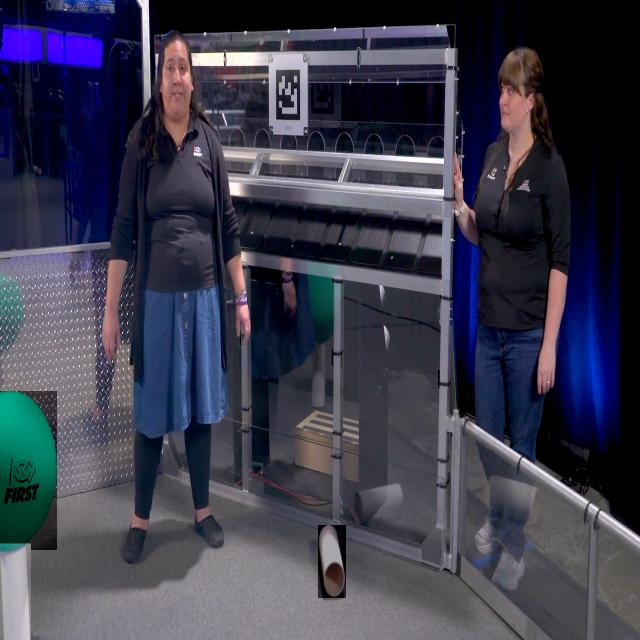Algae: (0, 392, 57, 552)
Coral: (0, 544, 31, 640), (318, 525, 346, 598)
